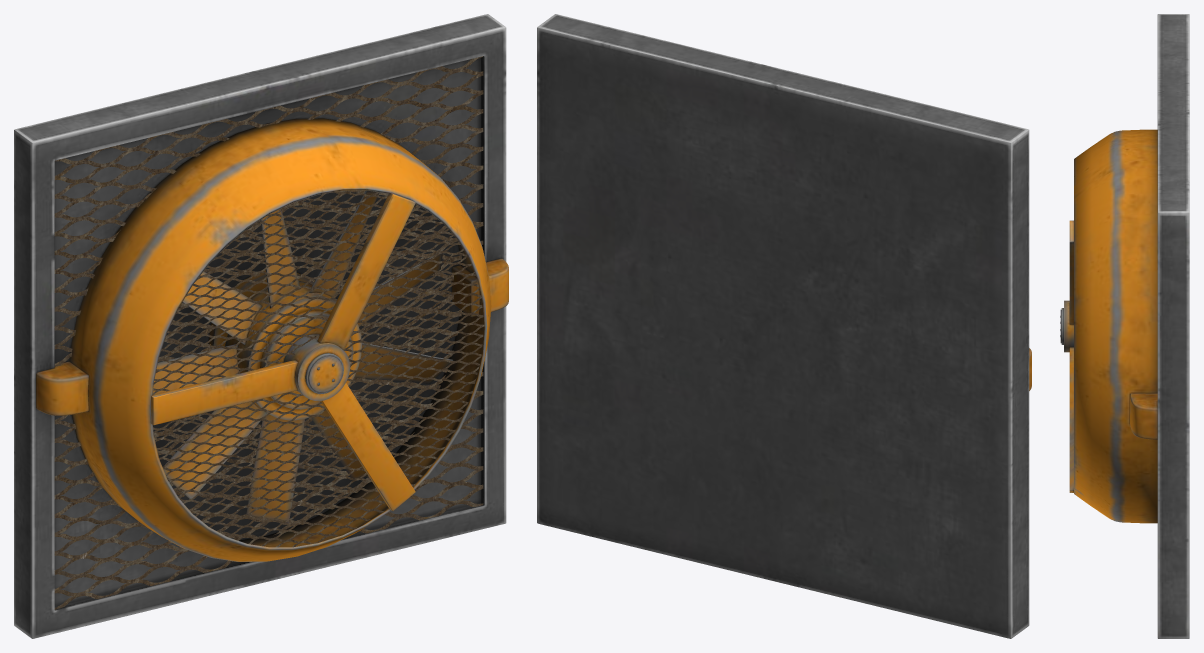
File: air_filter_unit.glb
3 views of the same model, side by side, from view 1: azimuth 30°, elevation 25°; view 2: azimuth 150°, elevation 25°; view 3: azimuth 270°, elevation 25° (orthographic). The views are drawn at different scales.
Parts seen in each view (by area): view 1: Object_4, Object_2, Object_3; view 2: Object_4; view 3: Object_4.
Part boxes in pixels (x1,y1,x2,y2): Object_4: (14,14,508,638); Object_2: (153,190,484,547); Object_3: (54,56,483,609); Object_4: (537,14,1031,638); Object_4: (1060,14,1189,638).
Size of the model in its own units: 1.2 by 1.2 by 0.33.
Materials: 3 (3 with a texture image).
